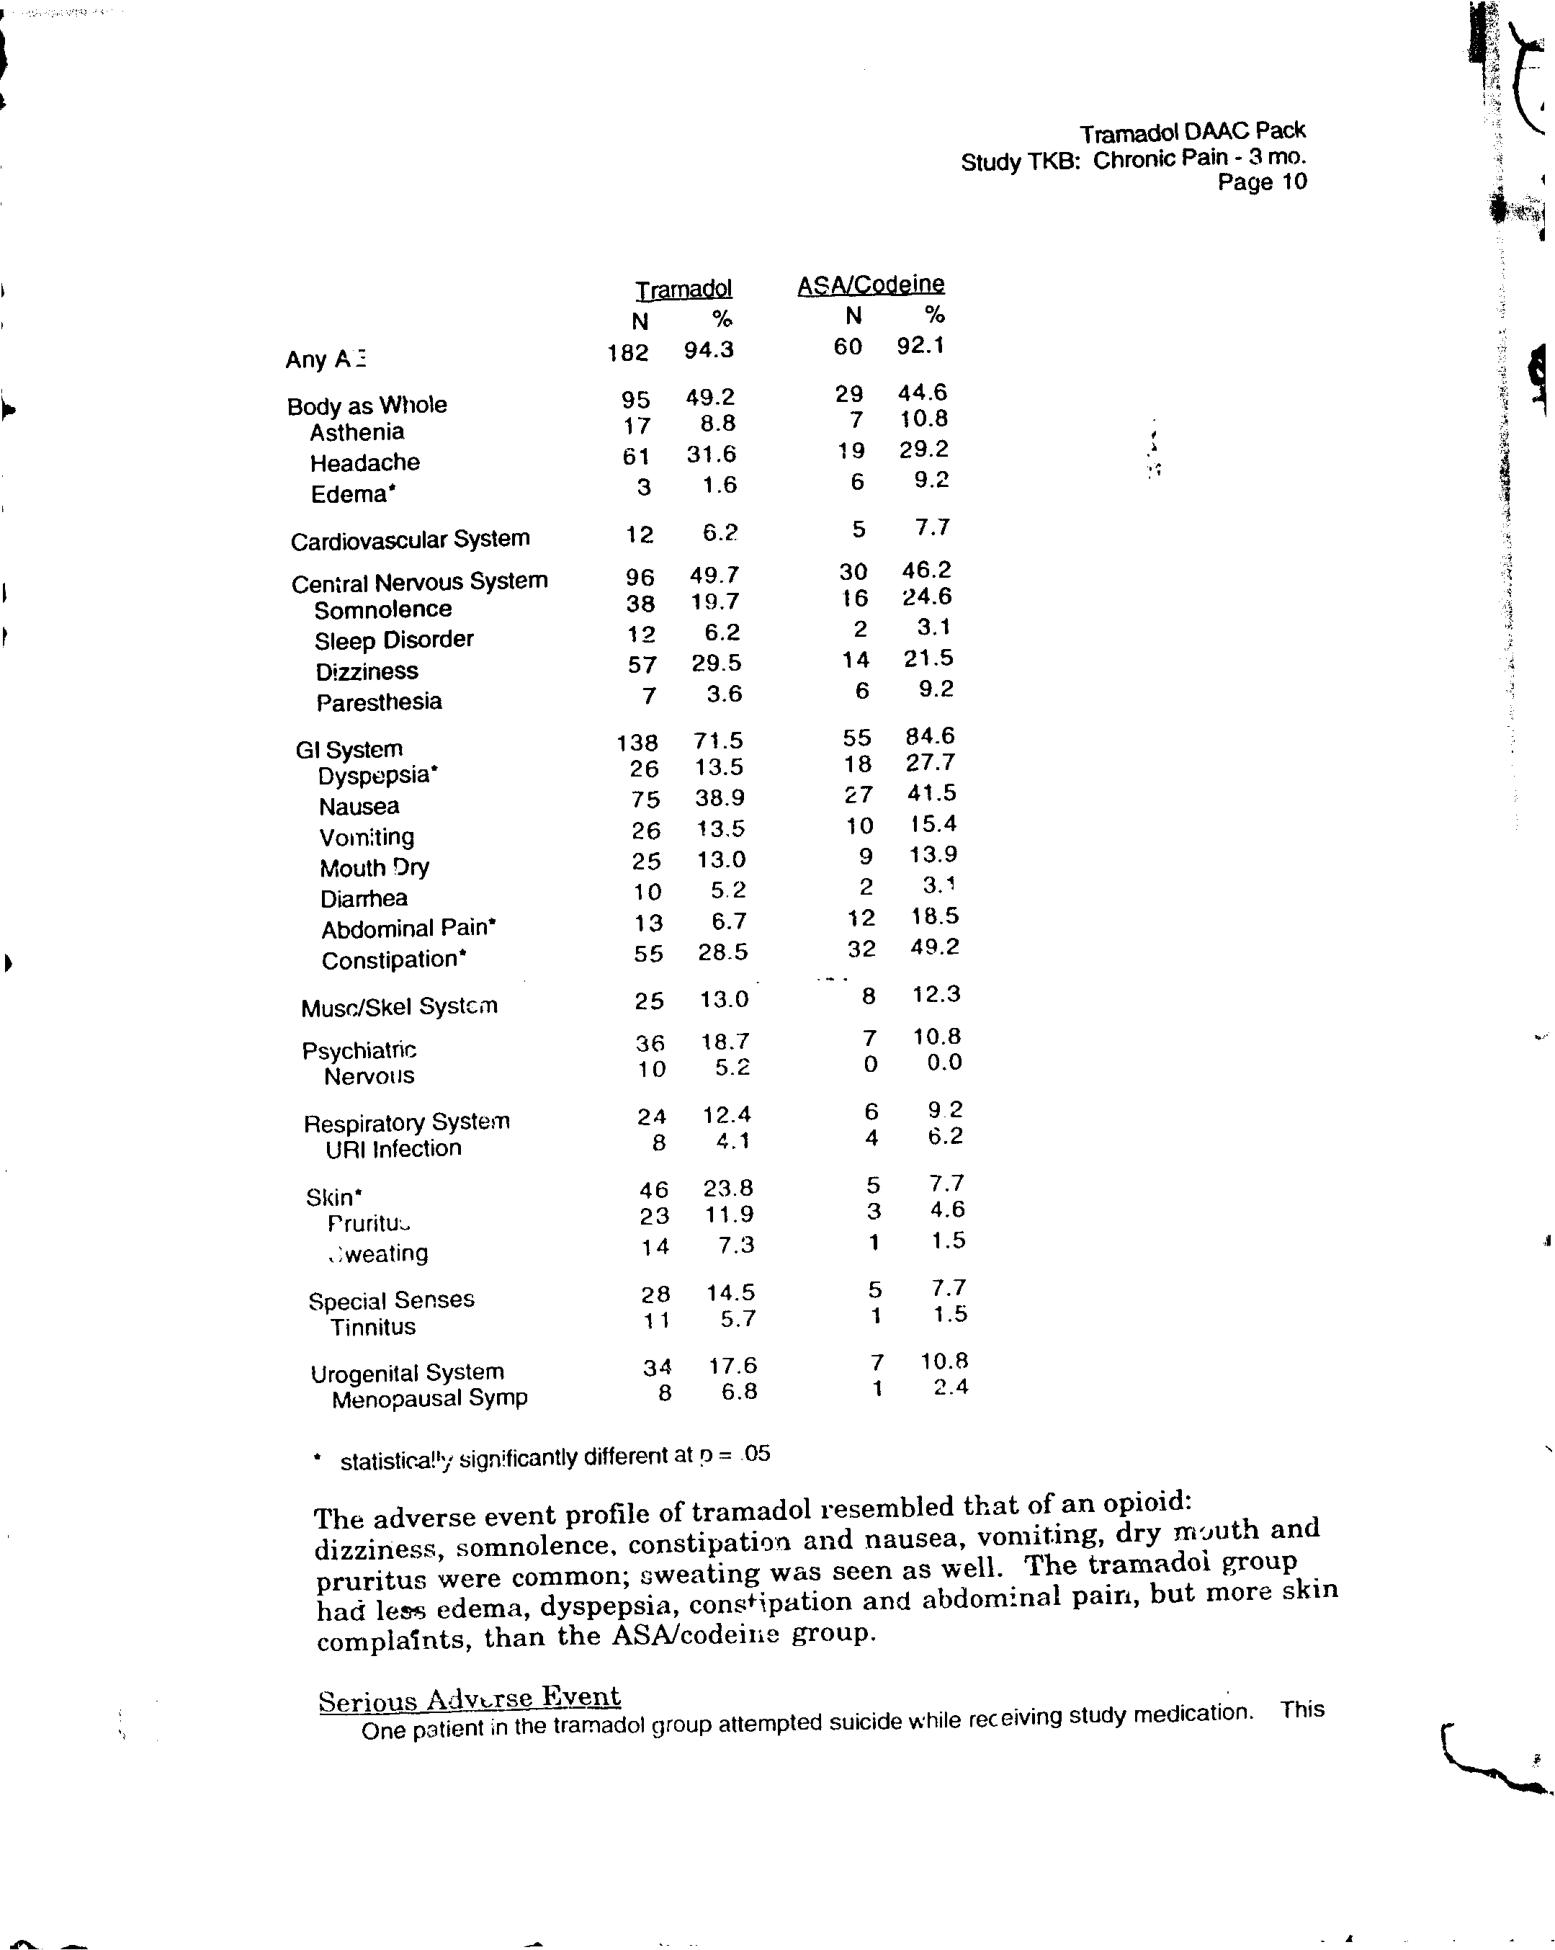nolines: (281, 267, 987, 1412)
